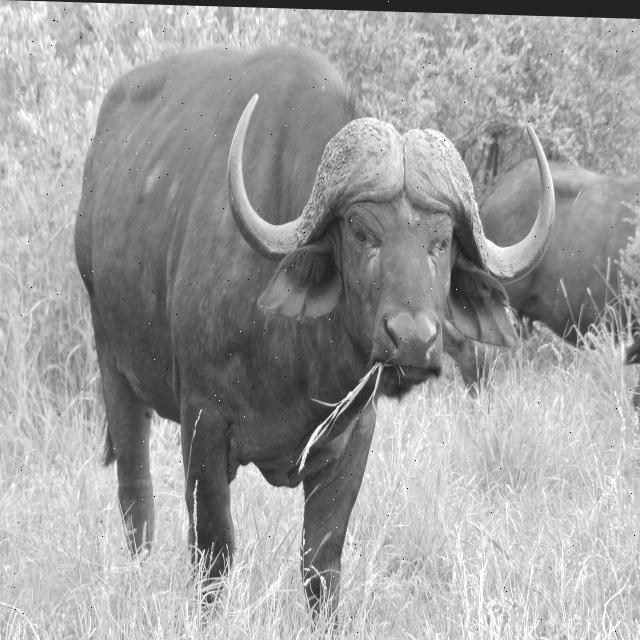Buffalo: (74, 37, 556, 640)
